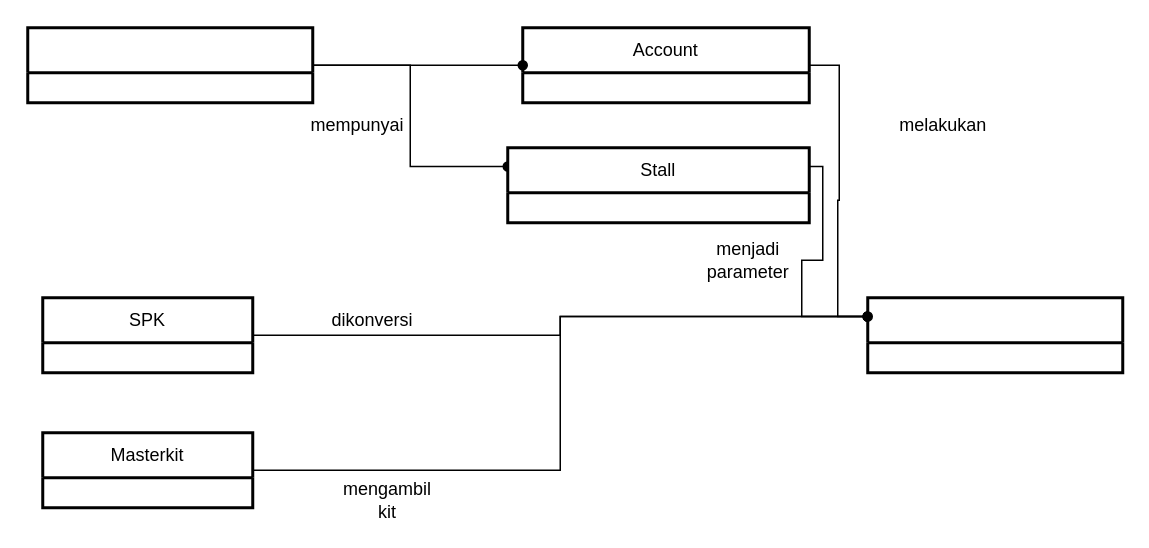
Image size: 1149x548. Some labels were removed from this diagram. Here are the shapes that lost their labels. From the top down, the centre of each, then its label:
[170,65]: Departemen
[995,335]: konversi
